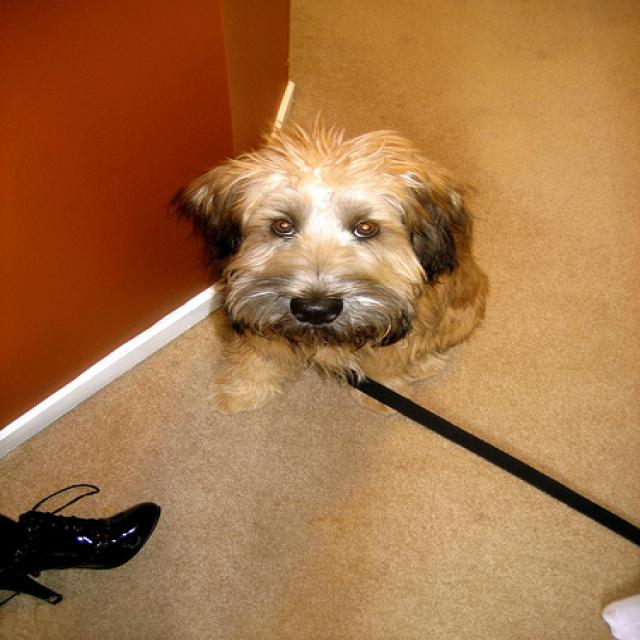dog-wheaten_terrier: (171, 132, 490, 417)
